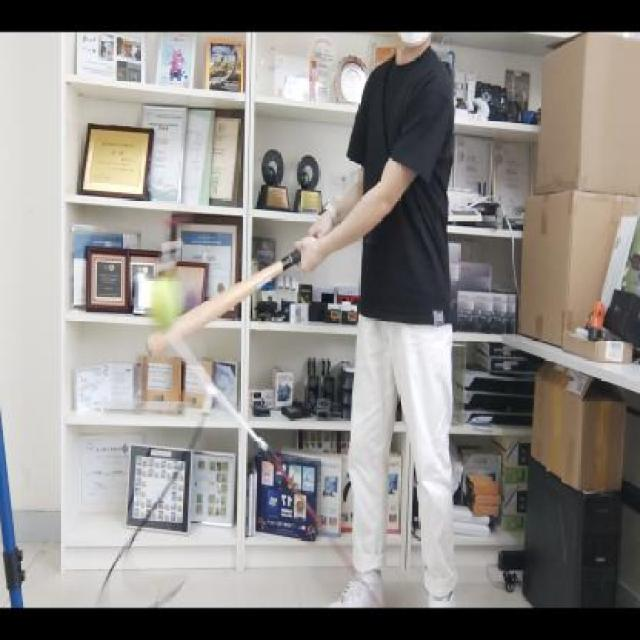baseball: (143, 274, 185, 332)
